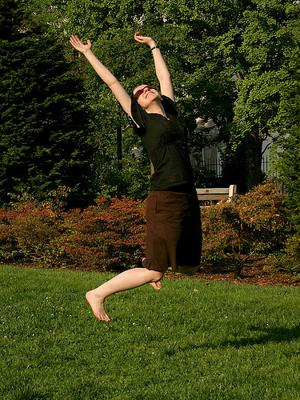person: (69, 26, 203, 327)
